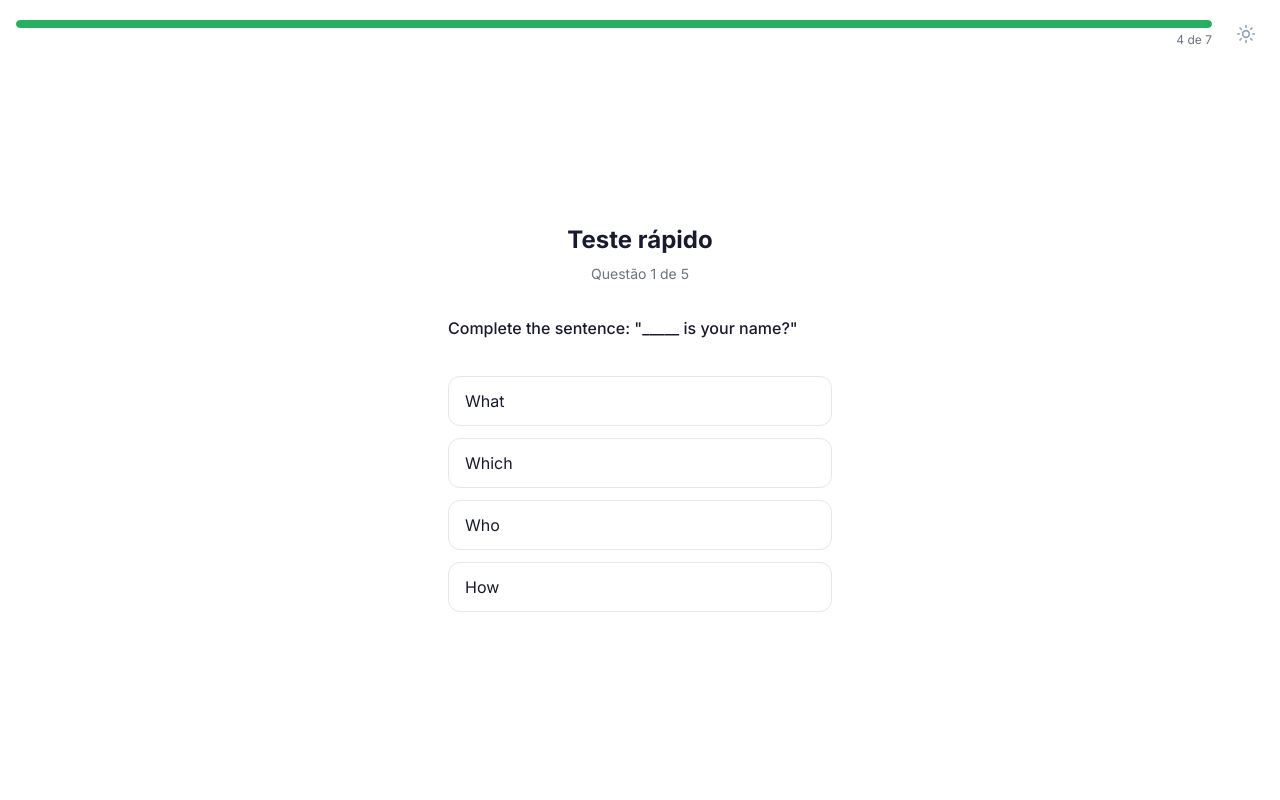
Test: NivelamentoPage › advances to next question when an option is selected
Expected: the text "Complete the sentence: \"_____ is your name?\"" is shown, [448,316,832,340]
Click the button "What" at (485, 401), box [448,376,832,426]
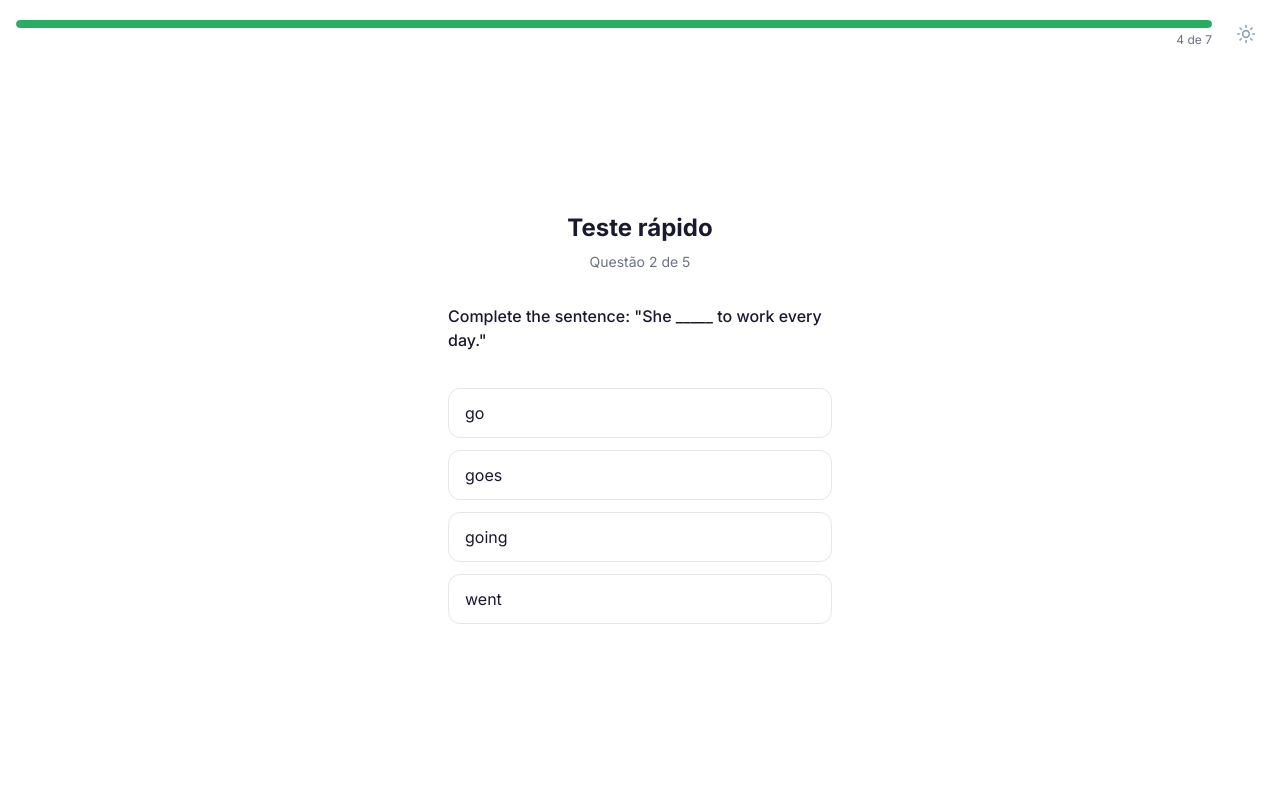
Expected: the text "Complete the sentence: \"She _____ to work every day.\"" is shown, [448,304,832,352]
